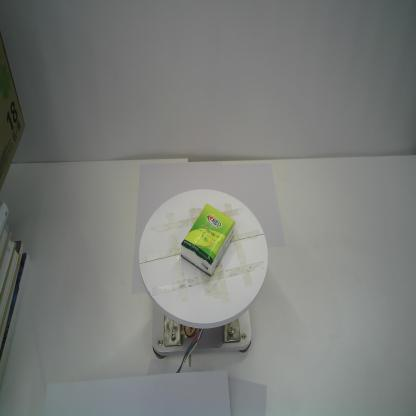Tissue: (180, 203, 236, 277)
